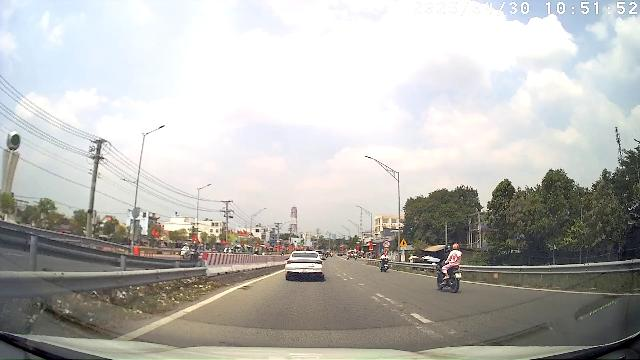123b-cam-re-phai: (383, 240, 391, 248)
